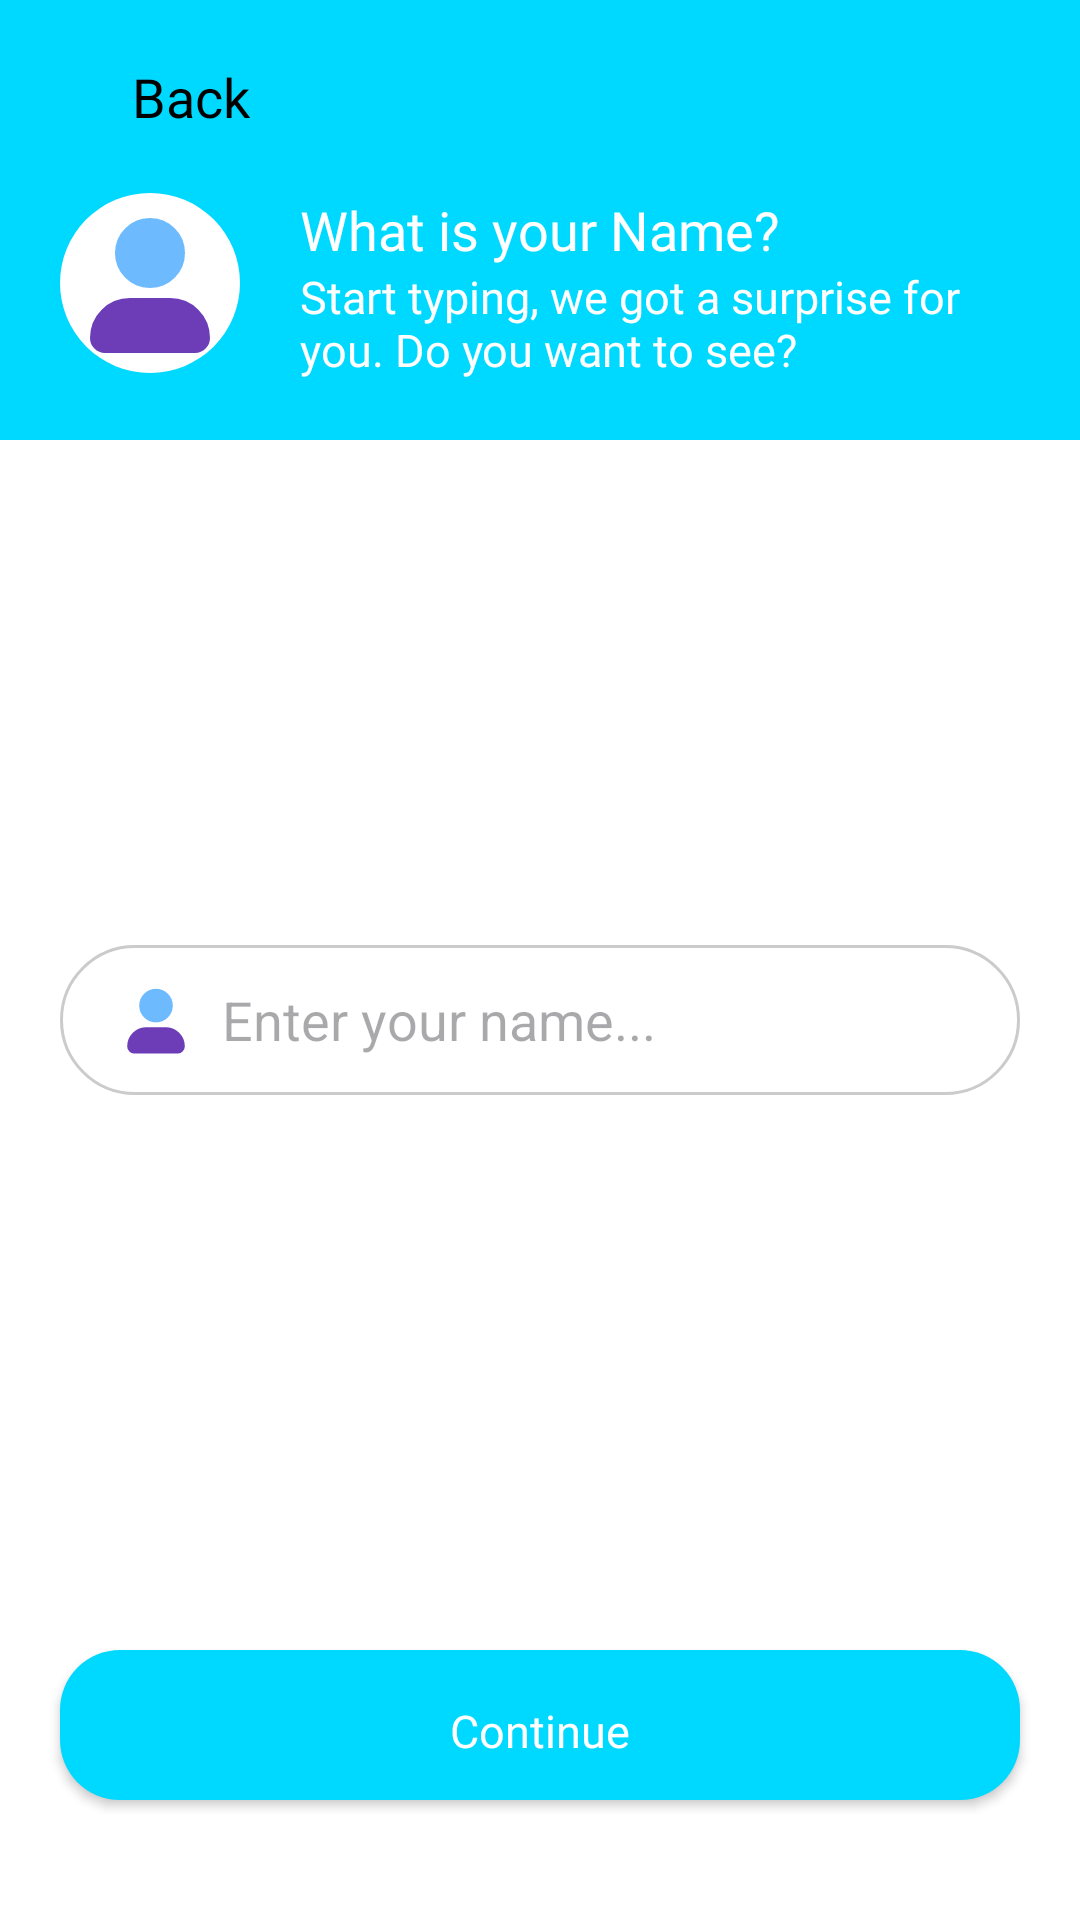

Where icons sit on this 1080px×1920px app screen, as (x1, y1, x2, y2):
person: (60, 193, 240, 373), (127, 988, 185, 1054)
